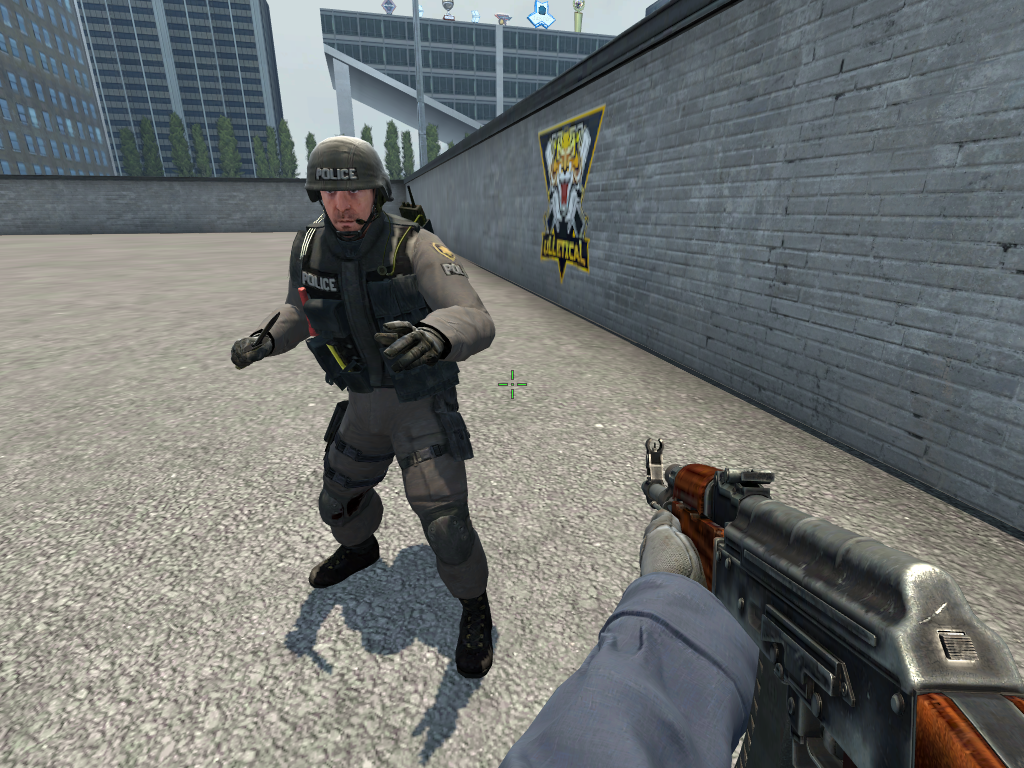ct head: (302, 134, 394, 242)
